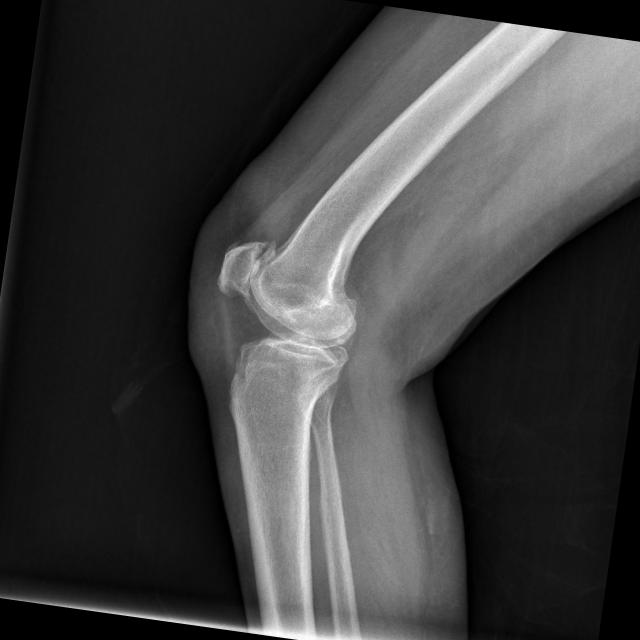Knee: (204, 235, 364, 401)
